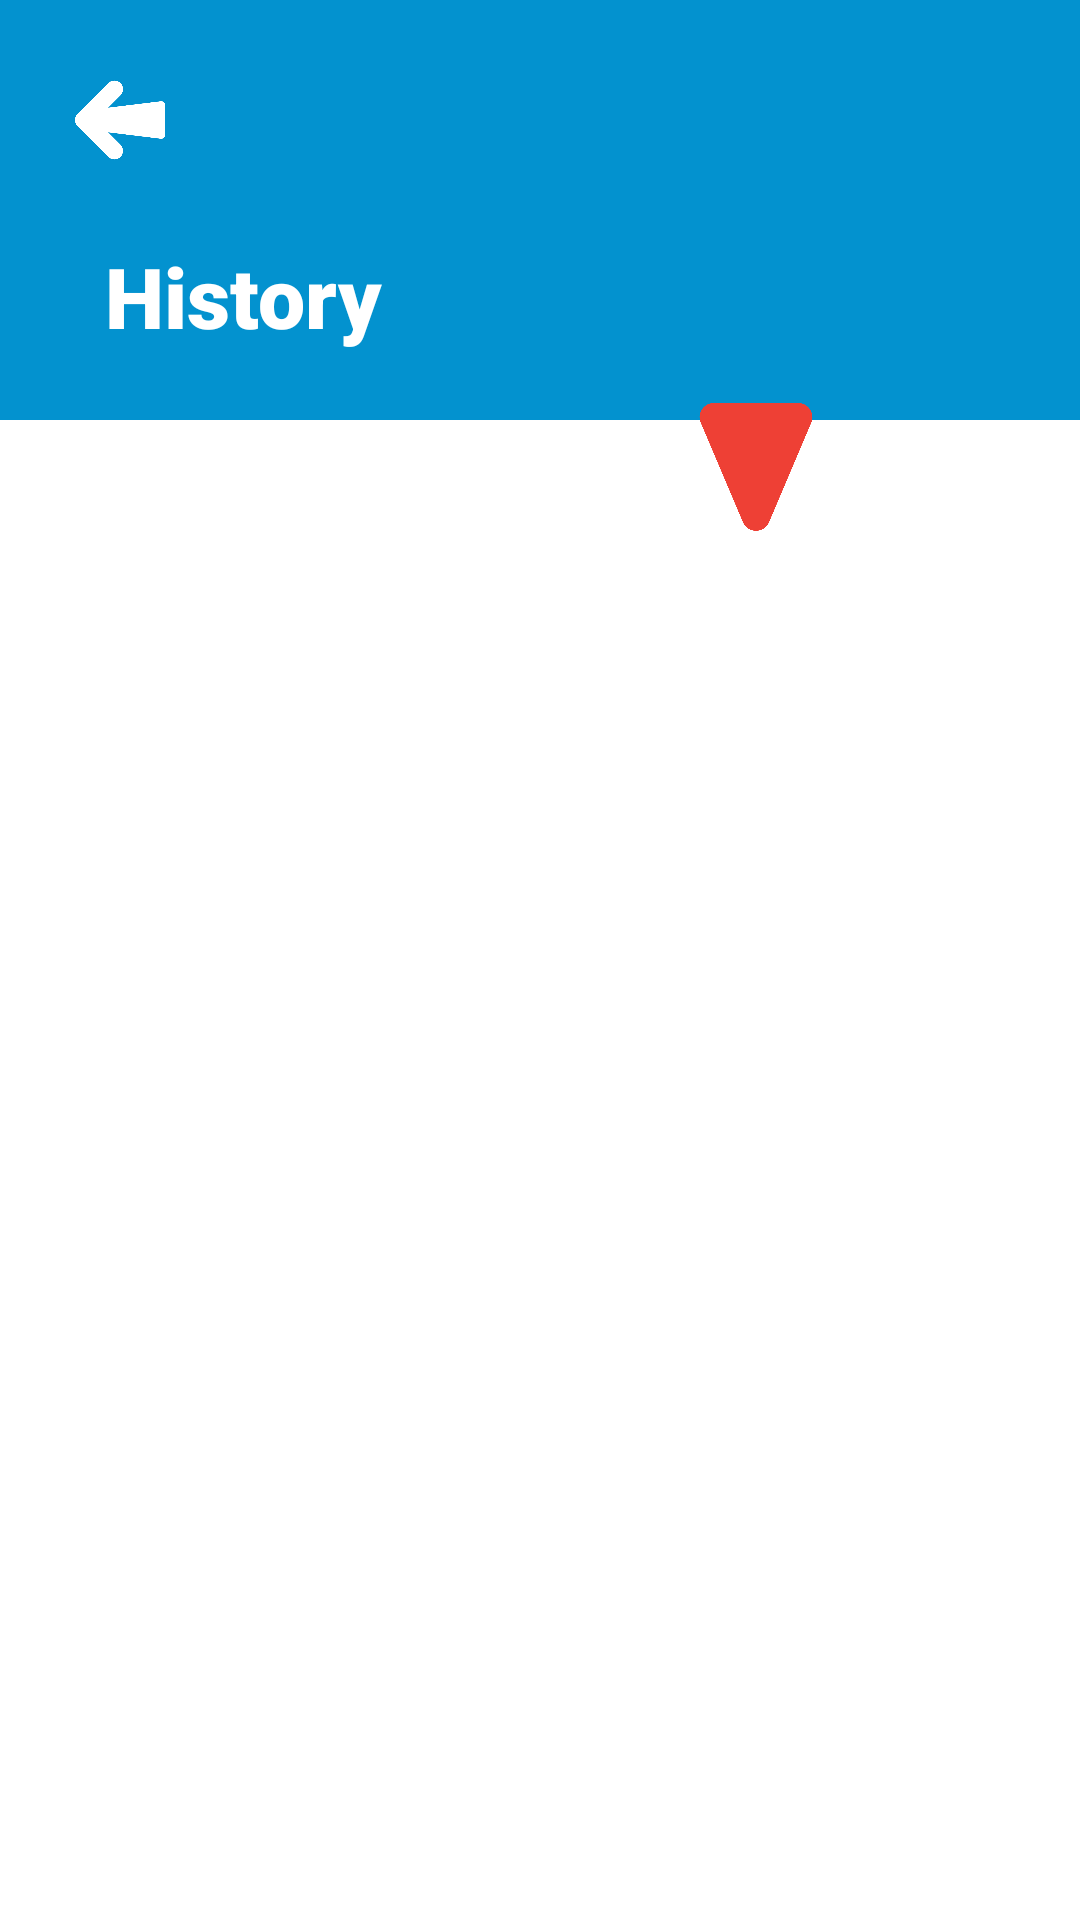

Where to tap for icons on this 1080×1920 app screen, as [x,y]:
back arrow: [120,120]
